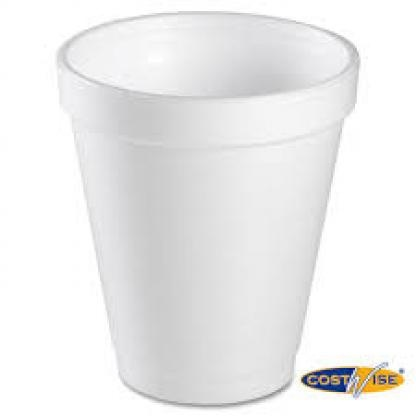trash: (58, 12, 358, 404)
